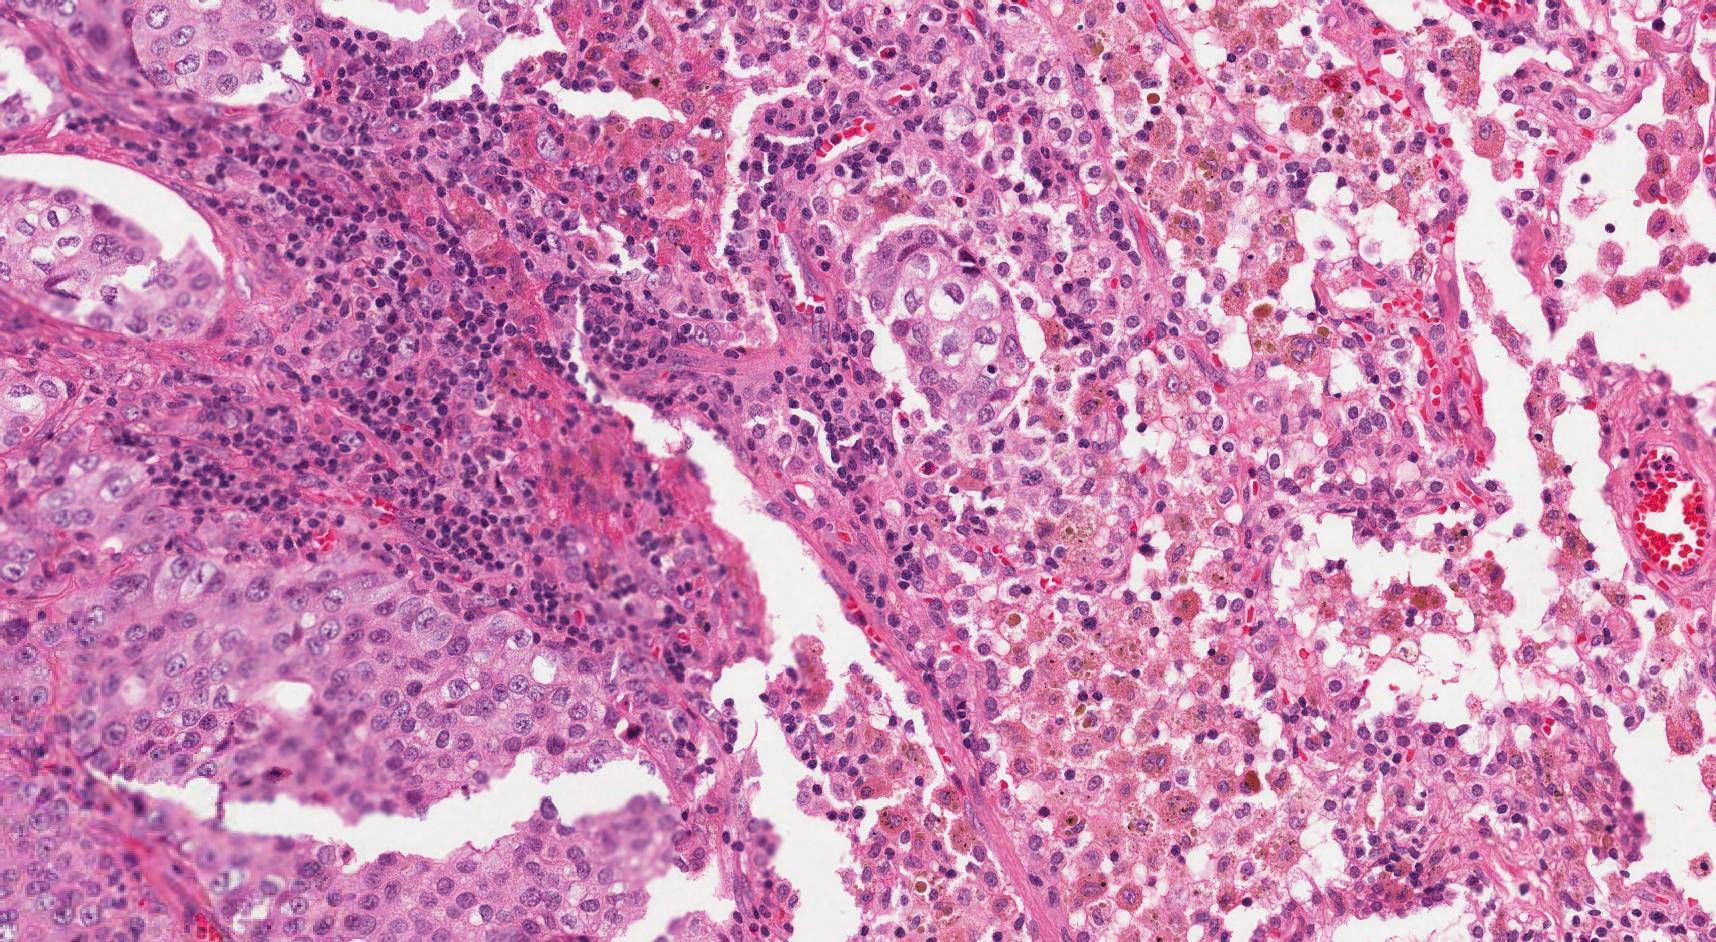stas: (858, 221, 1033, 426)
